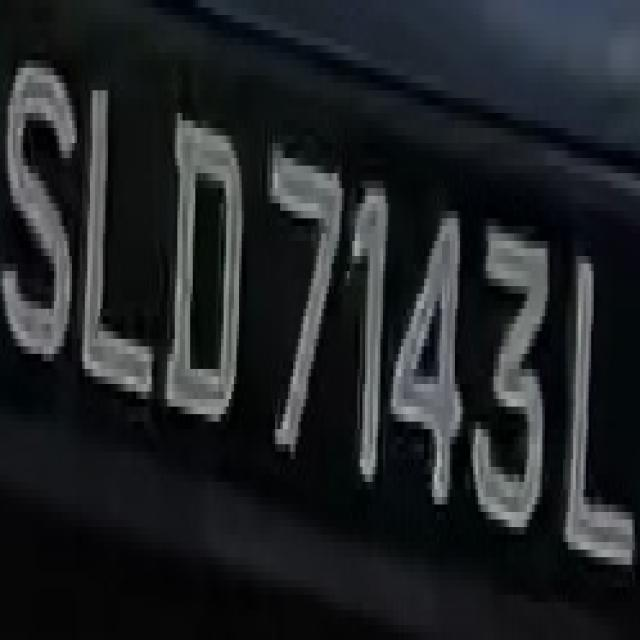1: (342, 158, 398, 520)
3: (478, 196, 558, 550)
4: (404, 166, 471, 527)
7: (268, 113, 344, 482)
D: (170, 76, 257, 474)
L: (563, 181, 640, 602), (80, 60, 159, 414)
S: (13, 15, 74, 414)
